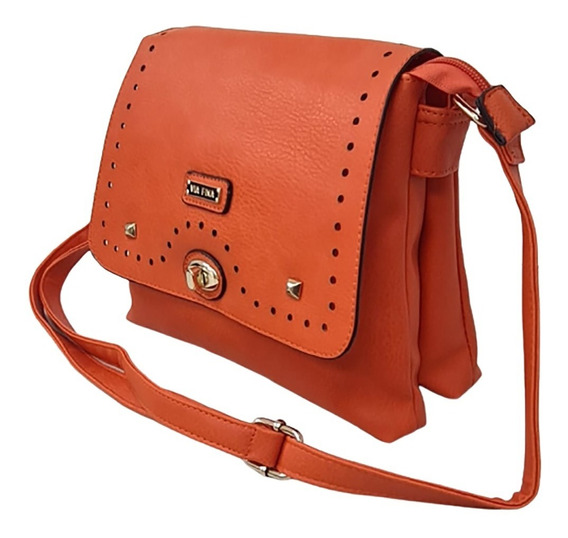cartera: (26, 23, 543, 511)
